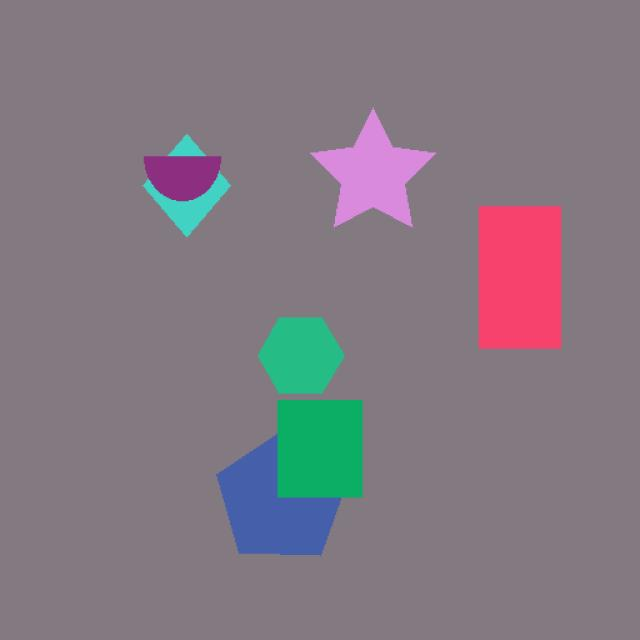Hexagon: (252, 311, 354, 396)
Pentagon: (192, 428, 357, 569)
Rectangle: (470, 196, 579, 387)
Semicircle: (135, 148, 225, 208)
Star: (294, 100, 458, 242)
square: (269, 389, 376, 514), (131, 121, 236, 247)
